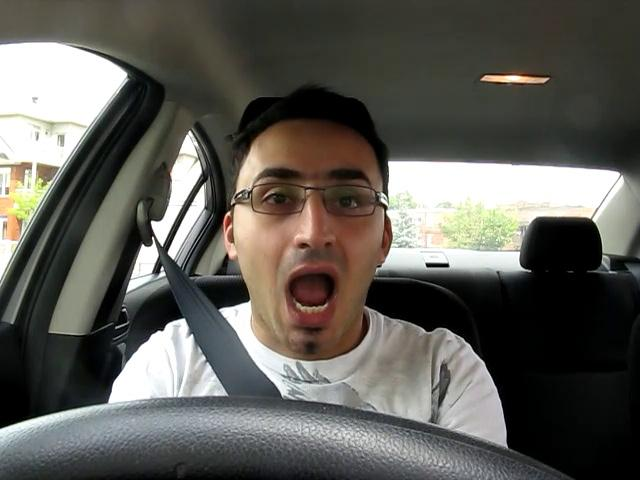open_eyeL: (242, 180, 309, 222)
open_eyeR: (316, 181, 383, 226)
yawn: (263, 258, 360, 331)
